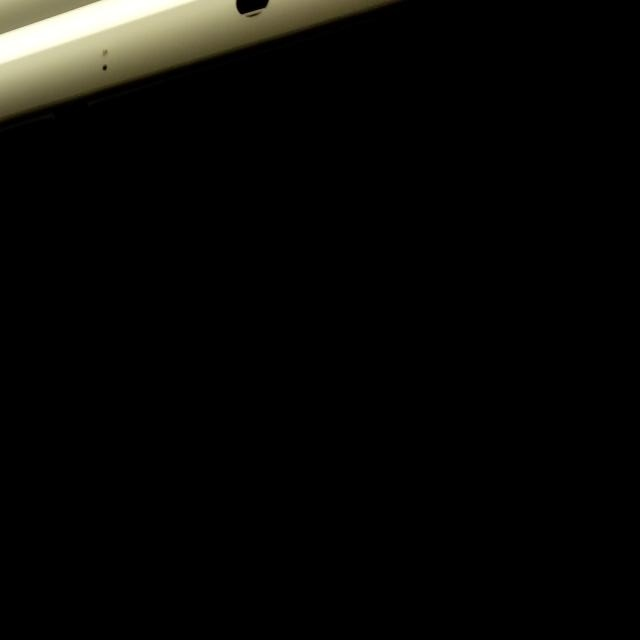fluorescent tube: (0, 0, 508, 345), (0, 0, 523, 246)
